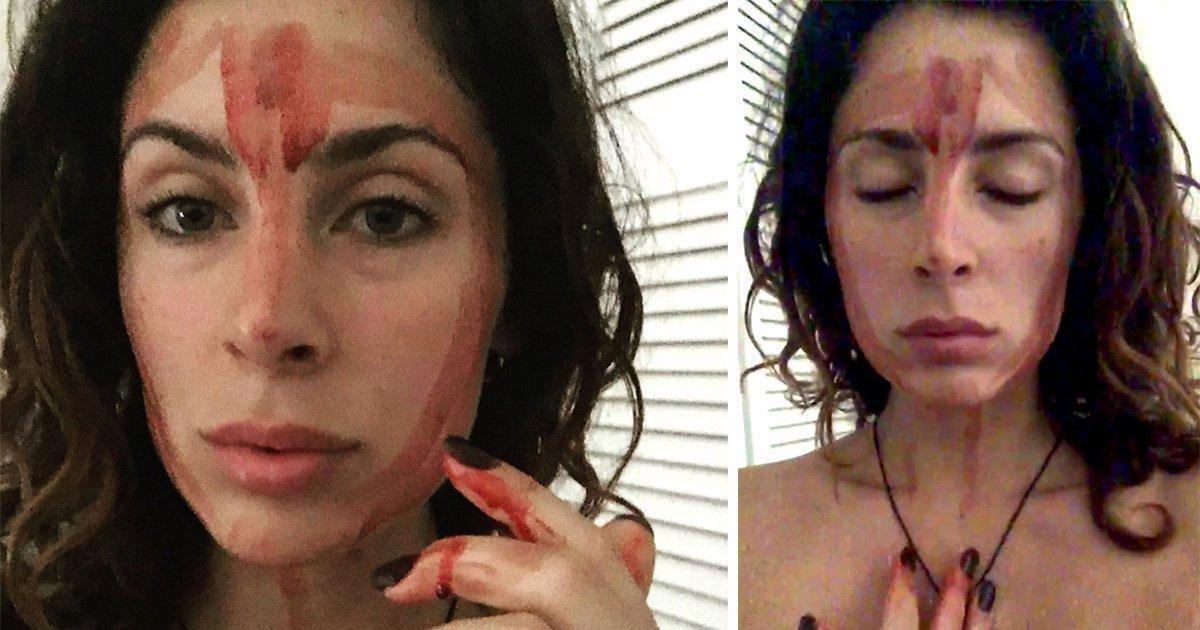Fire: (352, 156, 505, 542), (311, 41, 495, 189), (828, 169, 913, 389), (220, 22, 329, 177), (136, 356, 216, 525), (829, 64, 934, 173), (123, 12, 220, 122), (444, 455, 556, 542), (248, 164, 294, 340), (914, 56, 984, 158), (1018, 250, 1073, 372), (984, 50, 1050, 126), (229, 528, 342, 567), (122, 258, 155, 369), (961, 404, 985, 518), (278, 568, 312, 629), (1063, 152, 1082, 256), (436, 538, 466, 600), (619, 538, 645, 586), (892, 561, 916, 595), (1003, 344, 1023, 383), (904, 443, 915, 500), (943, 570, 971, 590)
